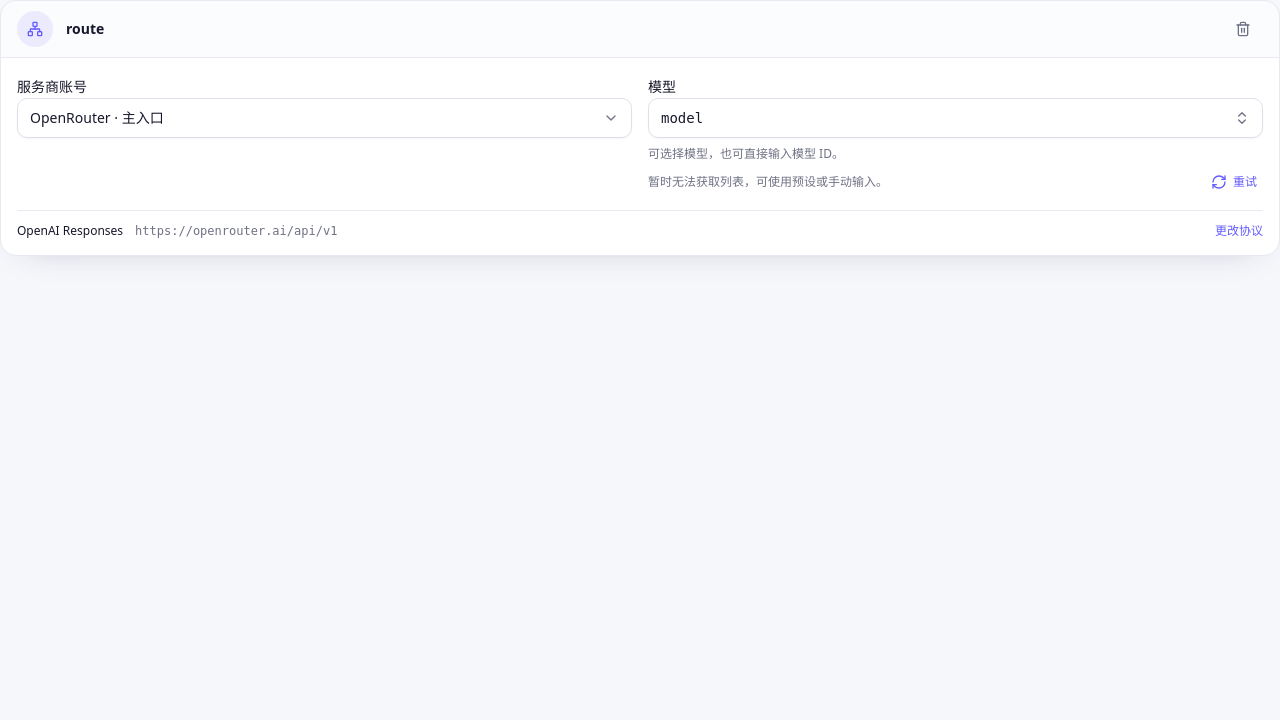
Test: a failed catalog explains that preset candidates and manual IDs are still available
The width and height of the screenshot is (1280, 720).
Expected: the text "暂时无法获取列表，可使用预设或手动输入。" is shown, 648,174 -> 888,190
Click the dropdown labelled "model" at (682, 118), box 648,98 -> 1263,138
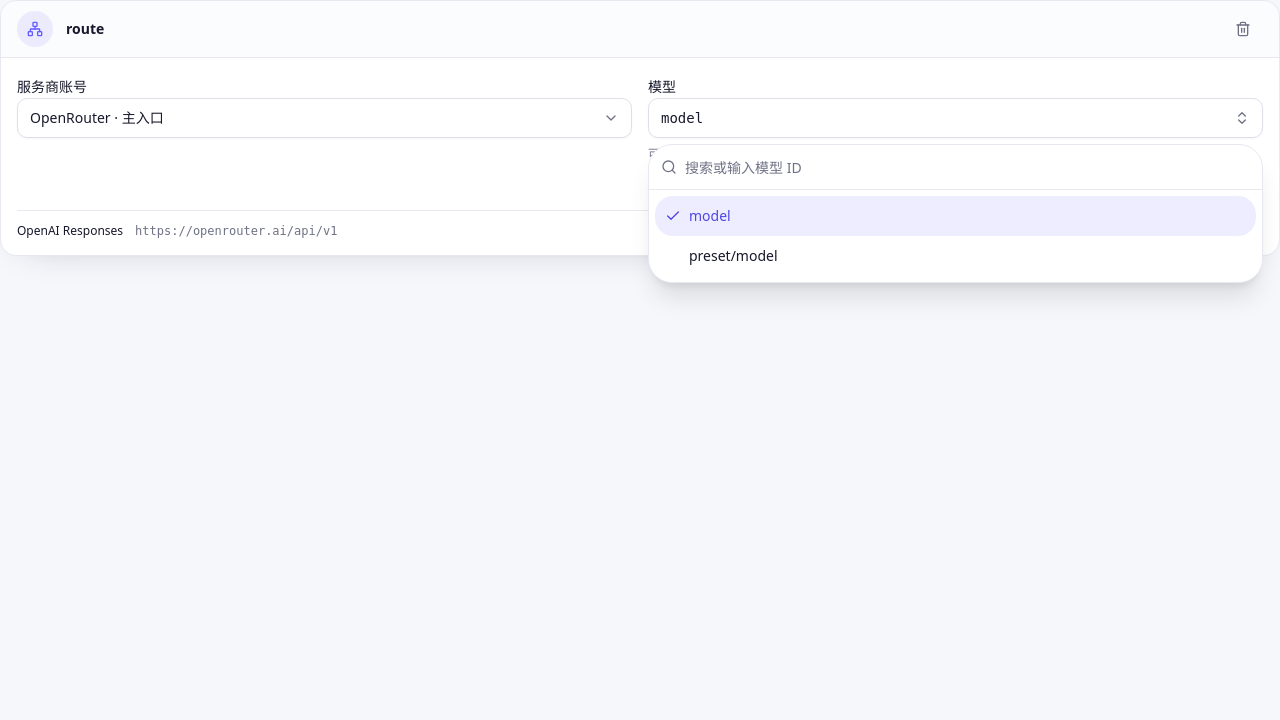
Expected: the option "preset/model" is shown, 689,246 -> 778,265
